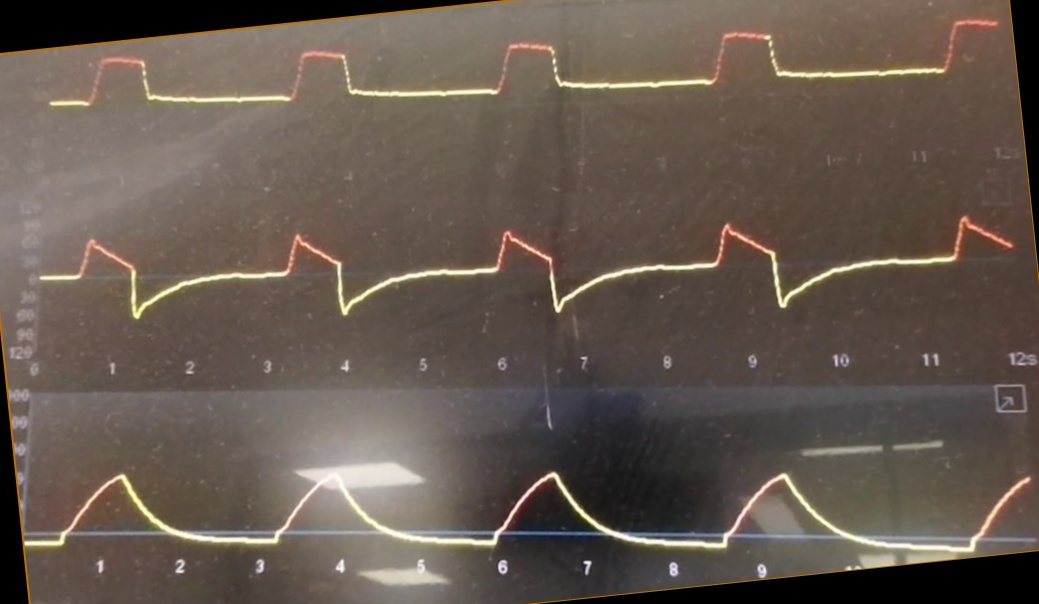Normal Flow: (39, 189, 1012, 326)
Normal Volume: (28, 431, 1034, 556)
